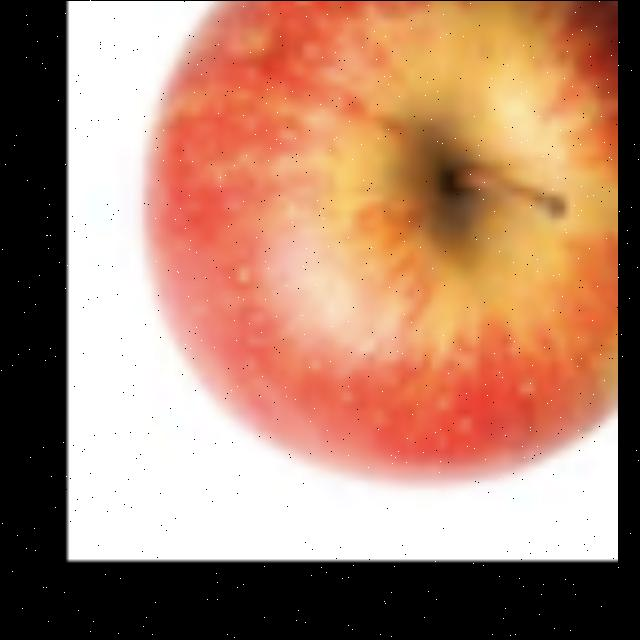Apel Segar: (125, 0, 618, 502)
